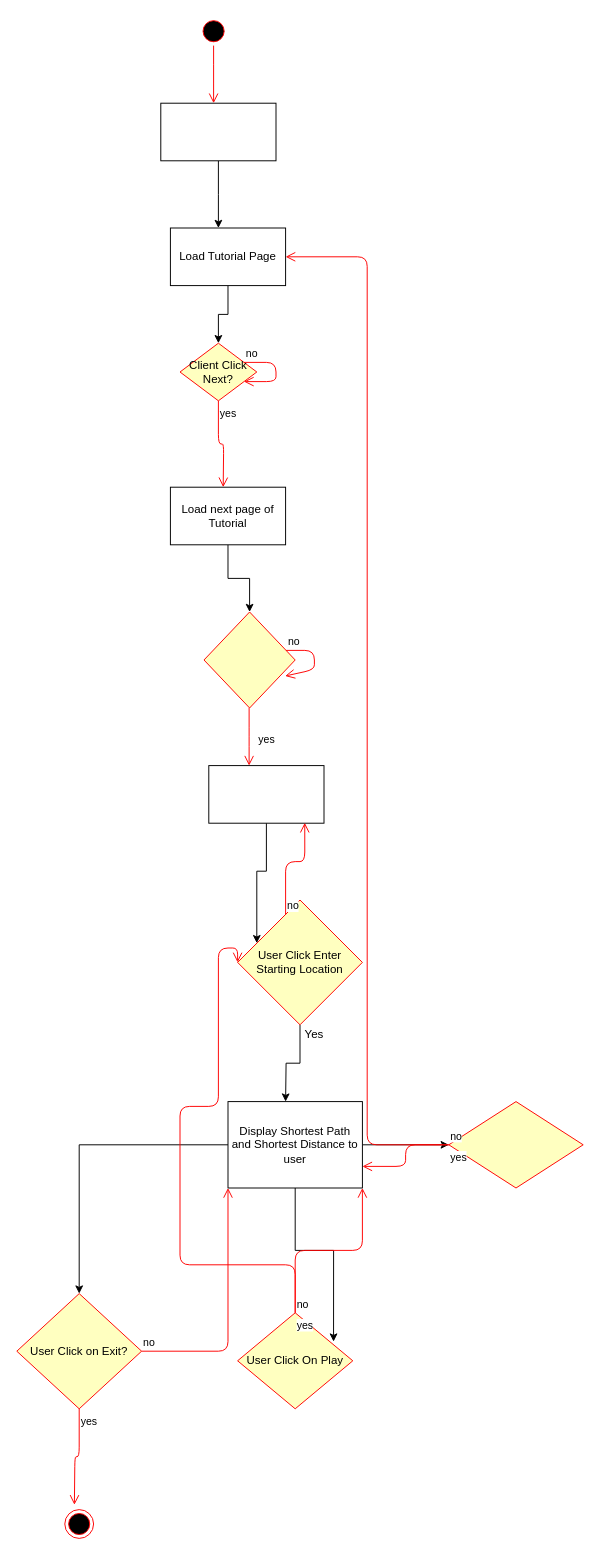
Image size: 600x1555. Some labels were removed from this diagram. The centre of each missing label's shape, as x and y in pixels:
"Client Open App" belongs at (218,131).
"Load Main Page" belongs at (266,794).
"User click on start?" belongs at (249,659).
"User Click on Tutorial" belongs at (515,1144).
